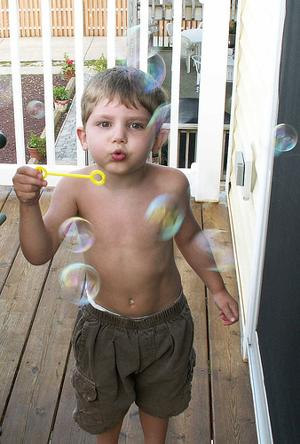person: (14, 63, 241, 442)
